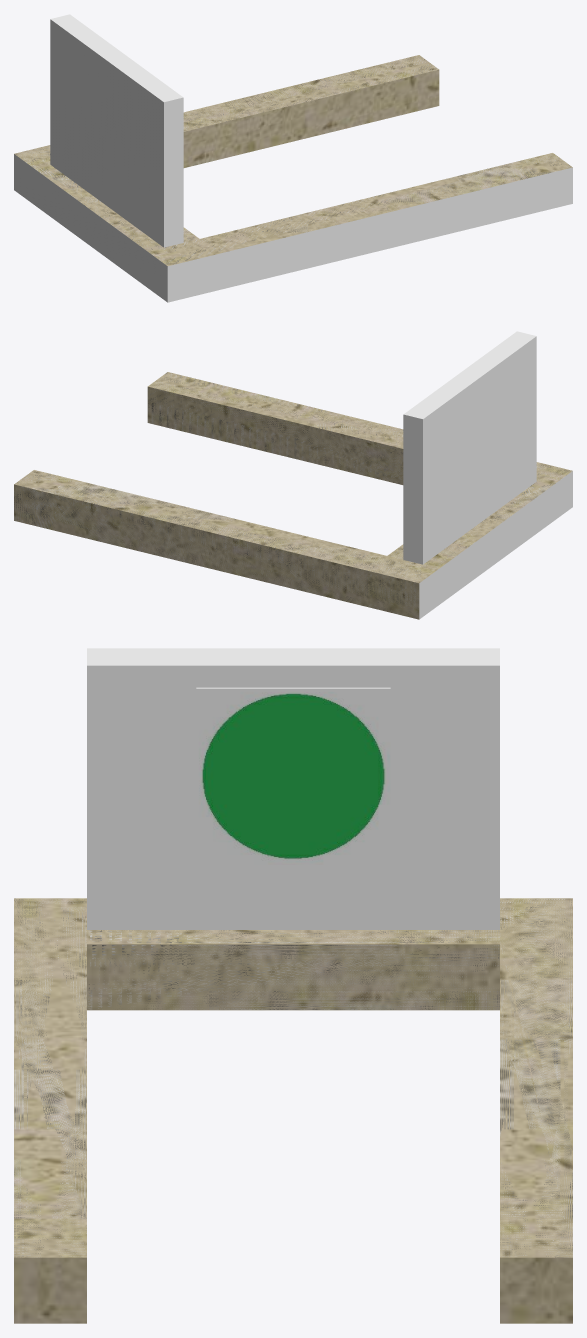
File: dock_gate_green_circle.dae
3 renders of one model, top to bottom at view 1: azimuth 30°, elevation 25°; view 2: azimuth 150°, elevation 25°; view 3: azimuth 270°, elevation 25°, orthographic. The views are drawn at different scales.
Visible parts, largest first — view 1: skp4980 (×4); view 2: skp4980 (×3); view 3: skp4980 (×4).
Boxes of the visible parts, left/top/right/bottom form: skp4980 (×4): left=14, top=14, right=572, bottom=302; skp4980 (×3): left=14, top=331, right=572, bottom=619; skp4980 (×4): left=14, top=648, right=572, bottom=1323.
Bounding box in the file's own units: 13.78 × 9.06 × 5.91.
Materials: 4 (3 with a texture image).
